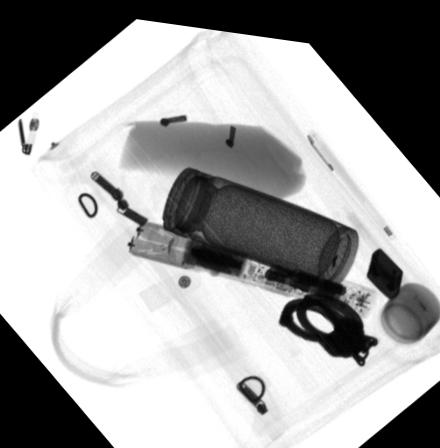Baton: (128, 215, 376, 312)
HandCuffs: (277, 284, 378, 356)
Lighter: (364, 237, 402, 289)
